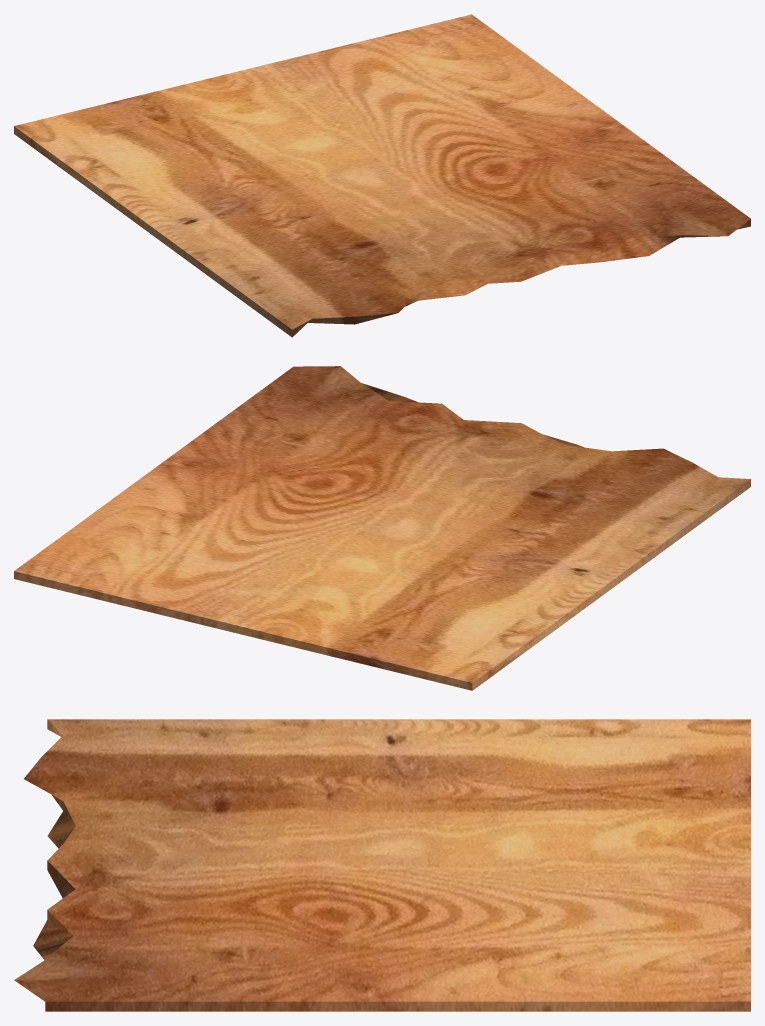
File: PlyWood-Snapped.fbx
3 views of the same model, one above another, from view 1: azimuth 30°, elevation 25°; view 2: azimuth 150°, elevation 25°; view 3: azimuth 270°, elevation 25° (orthographic). The views are drawn at different scales.
Visible parts, largest first — view 1: pCube1; view 2: pCube1; view 3: pCube1.
Part boxes in pixels (box(x1,y1,x2,y2)): pCube1: box(14, 14, 750, 337); pCube1: box(14, 366, 750, 690); pCube1: box(14, 719, 750, 1011).
Bounding box in the file's own units: 1.22 × 0.02 × 1.35.
